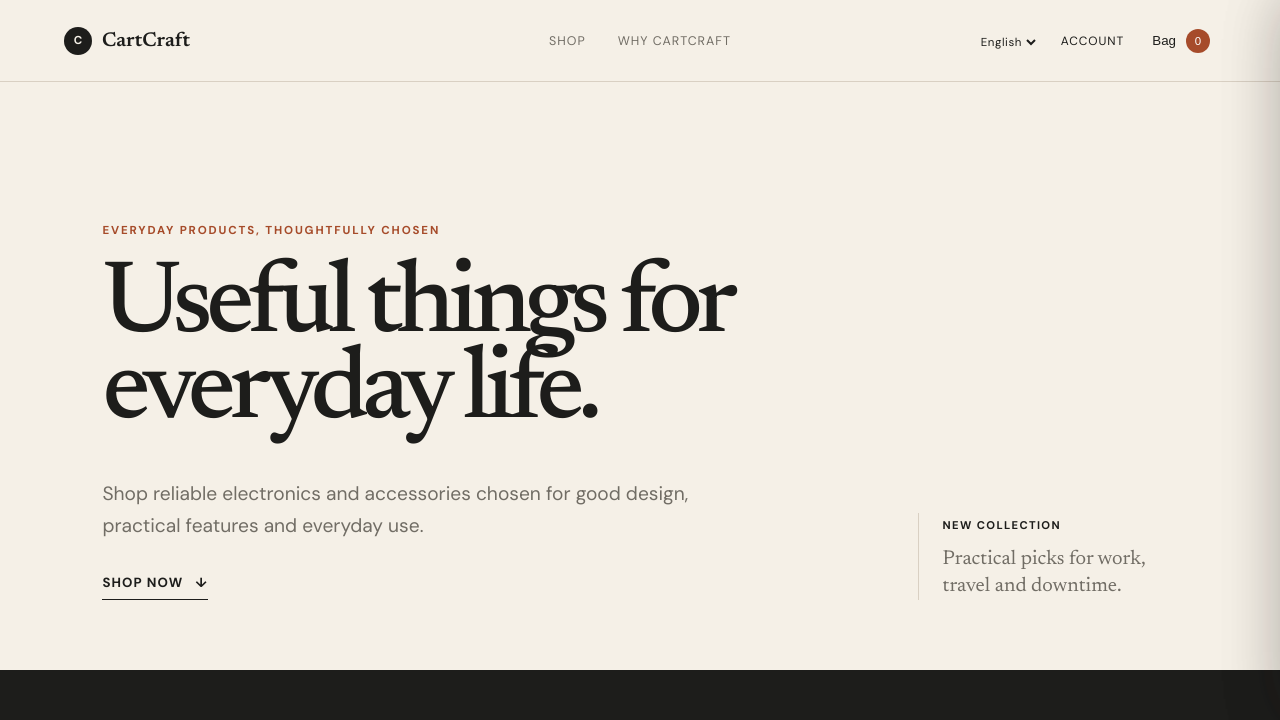
Test: App › changes and remembers the interface language
Select "Hindi" in the dropdown named "Language" at (1008, 42), box left=977, top=34, right=1039, bottom=51
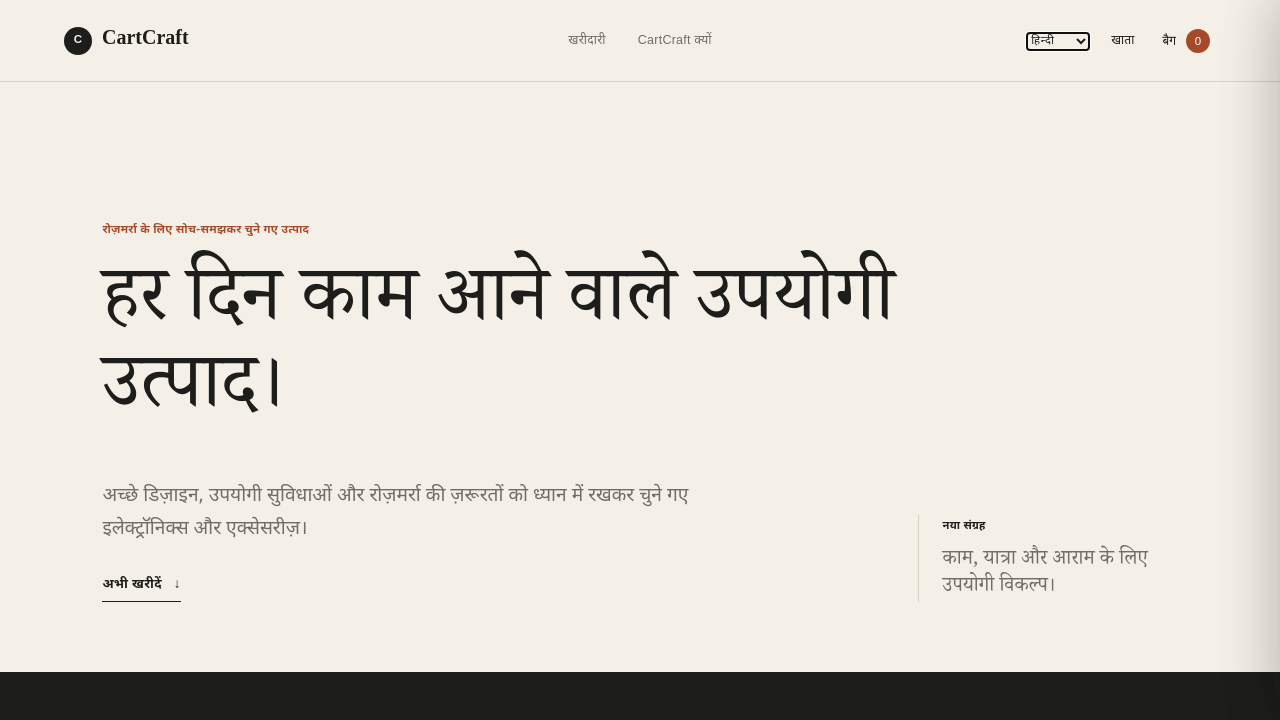
Check: the button "खाता" is shown, box left=1111, top=32, right=1134, bottom=48
Select "తెలుగు" in the dropdown named "Language" at (1058, 42), box left=1027, top=33, right=1089, bottom=50
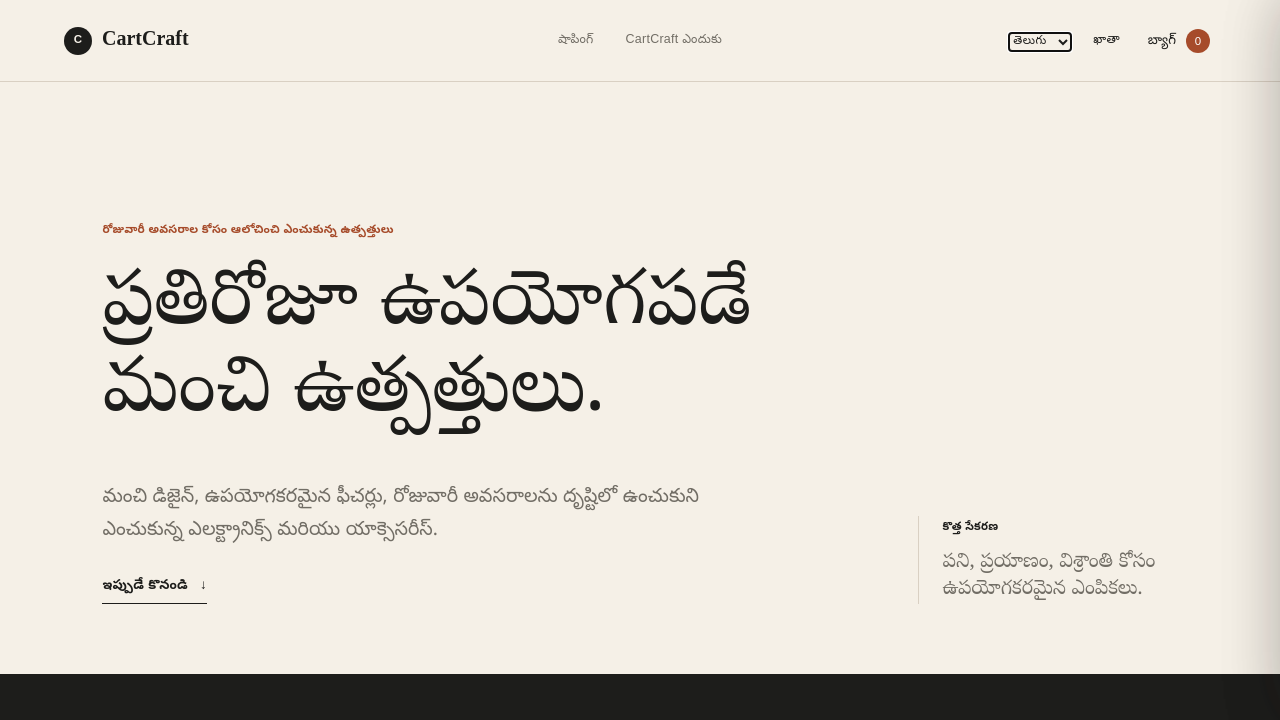
Check: the button "ఖాతా" is shown, box left=1093, top=32, right=1120, bottom=48
